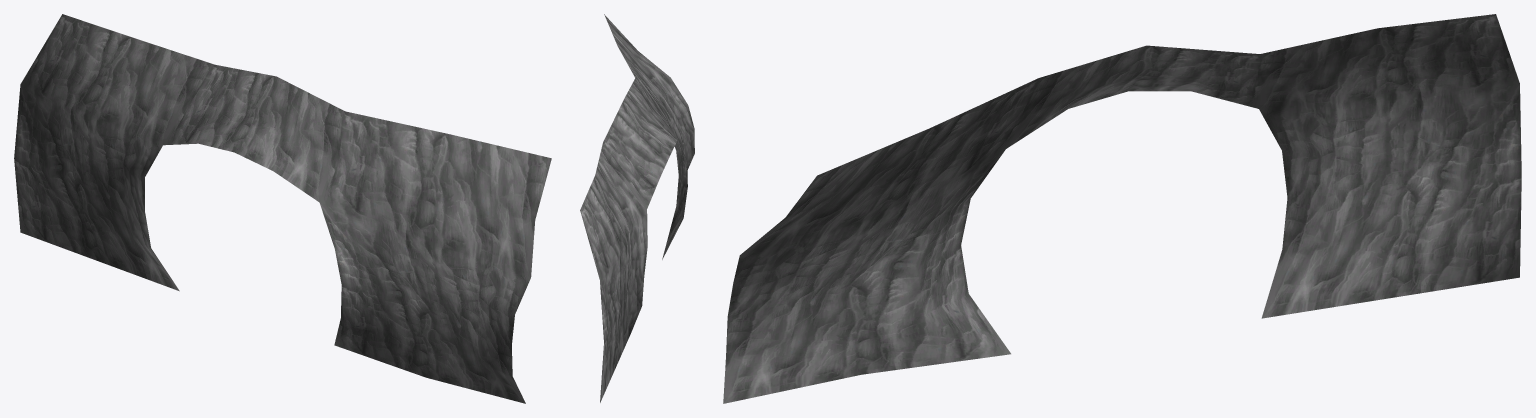
Rendered from SWORDLIGHT20_PS-AREA04_23.fbx.
The picture shows the model from 3 angles, left to right: view 1: azimuth 30°, elevation 25°; view 2: azimuth 150°, elevation 25°; view 3: azimuth 270°, elevation 25°; orthographic projection. The views are drawn at different scales.
Parts seen in each view (by area): view 1: SWORDLIGHT20_PS-AREA04_23; view 2: SWORDLIGHT20_PS-AREA04_23; view 3: SWORDLIGHT20_PS-AREA04_23.
Boxes of the visible parts, bbox=[...] form: SWORDLIGHT20_PS-AREA04_23: bbox=[14, 14, 551, 403]; SWORDLIGHT20_PS-AREA04_23: bbox=[580, 14, 694, 402]; SWORDLIGHT20_PS-AREA04_23: bbox=[723, 14, 1521, 403].
Size of the model in its own units: 82194 by 68416 by 161362.
Materials: 1 (1 with a texture image).
